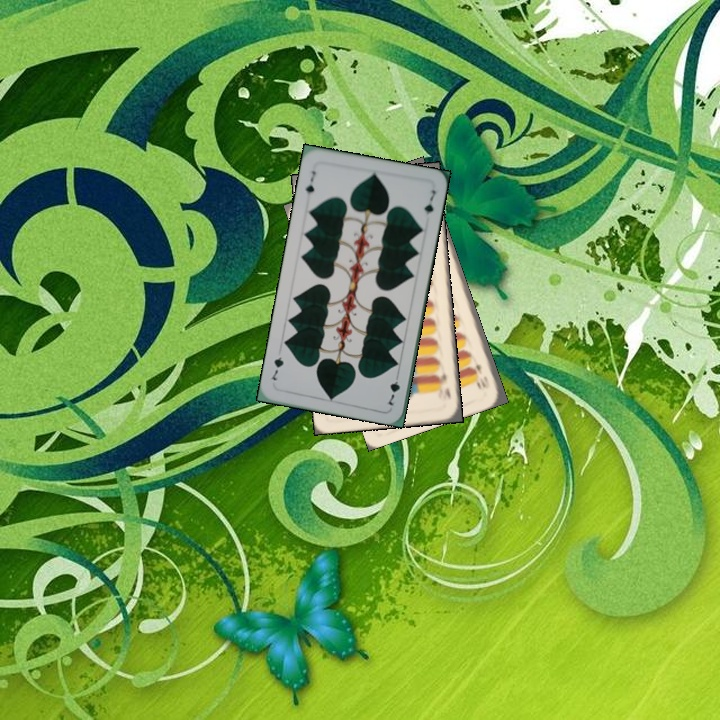E10: (471, 360, 492, 391), (434, 368, 453, 401)
G7: (384, 369, 403, 408), (302, 167, 318, 201)
